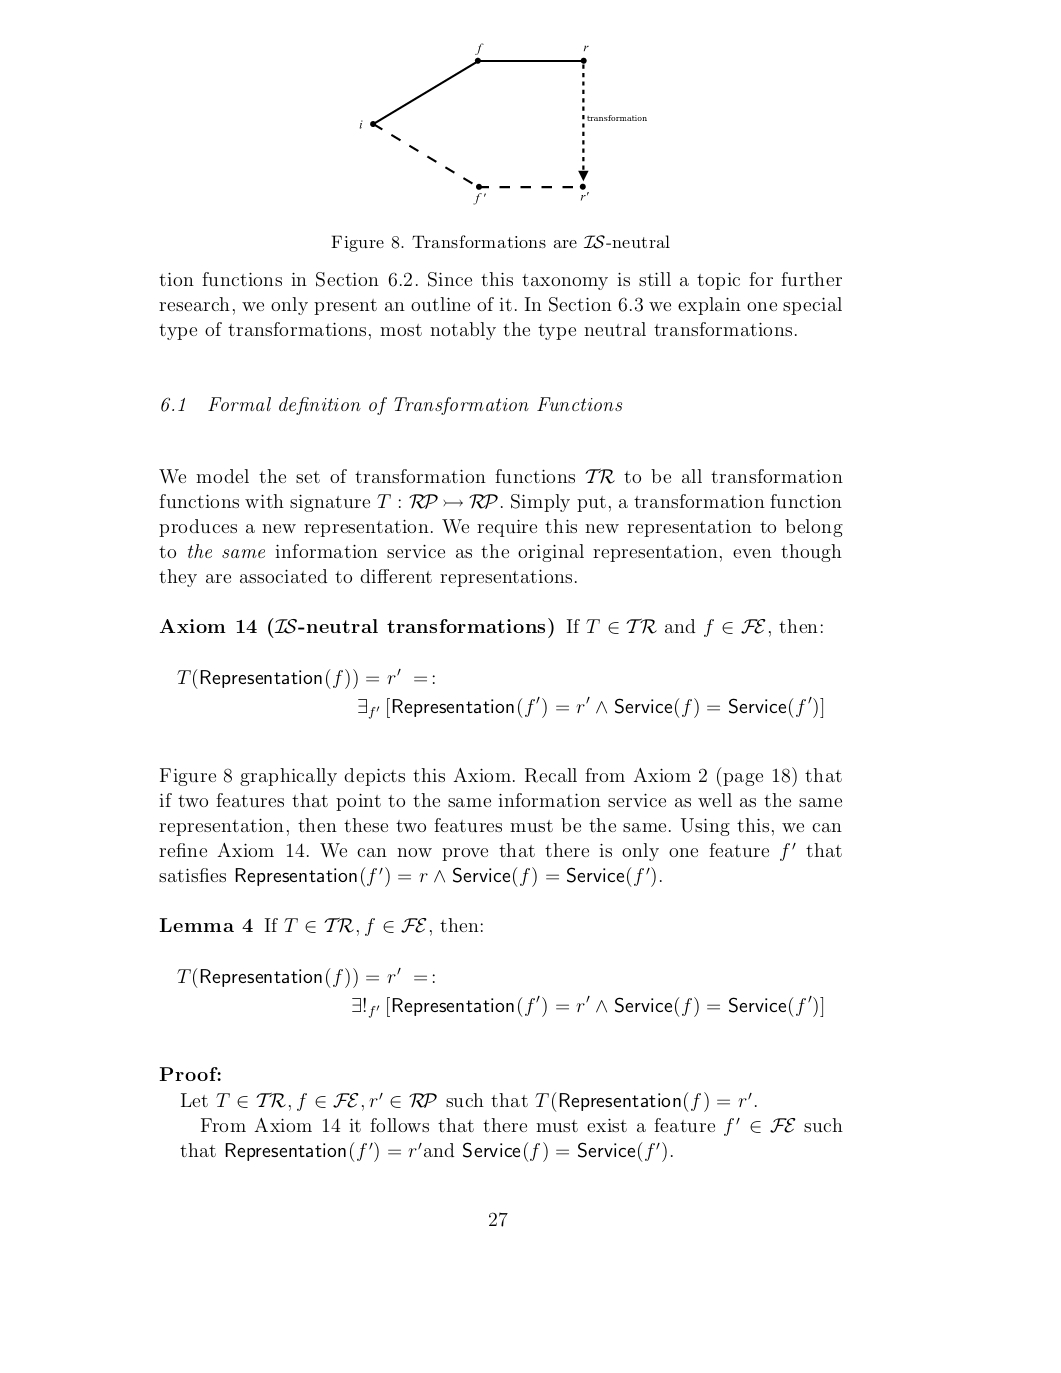figure: (359, 43, 646, 204)
formula: (352, 994, 822, 1017), (358, 695, 822, 719), (177, 966, 434, 989), (177, 668, 434, 689)
